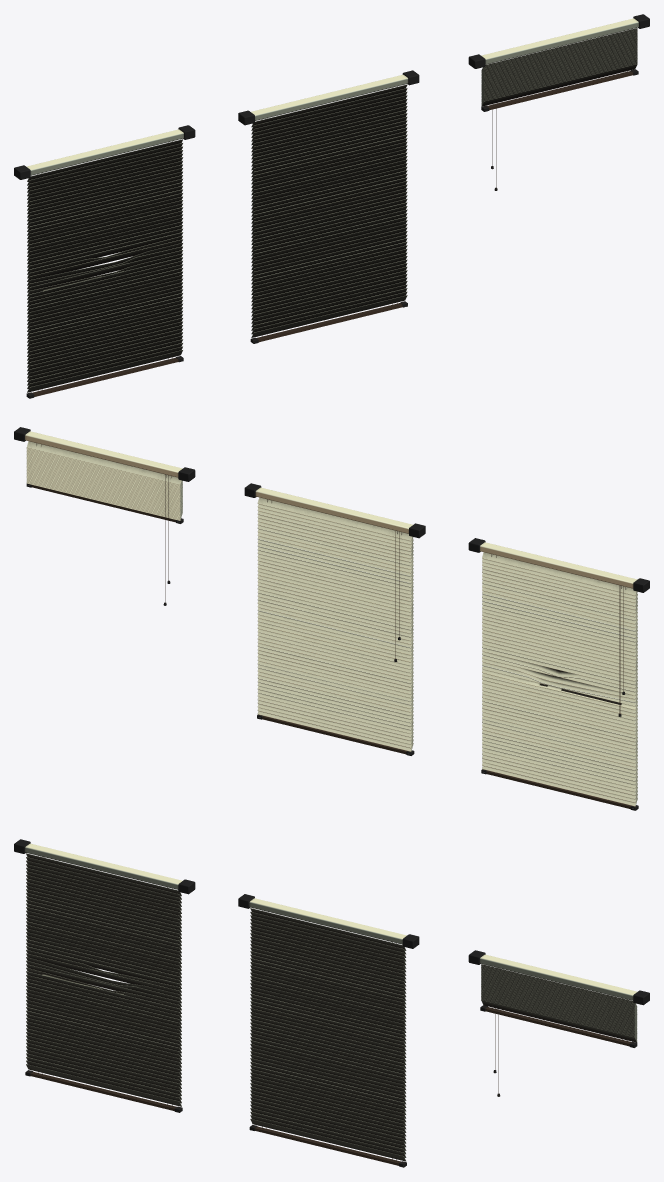
Rendered from window_blind.glb.
The picture shows the model from 3 angles, top to bottom: view 1: azimuth 30°, elevation 25°; view 2: azimuth 150°, elevation 25°; view 3: azimuth 330°, elevation 25°; orthographic projection.
Parts seen in each view (by area): view 1: 02_Mat_0, 01_Mat_0, 03_Mat_0; view 2: 02_Mat_0, 01_Mat_0, 03_Mat_0; view 3: 02_Mat_0, 01_Mat_0, 03_Mat_0.
Part boxes in pixels (x1,y1,x2,y2): 02_Mat_0: (238,70,419,343); 01_Mat_0: (14,125,195,398); 03_Mat_0: (468,14,649,190); 02_Mat_0: (244,483,425,755); 01_Mat_0: (468,538,649,810); 03_Mat_0: (14,427,195,605); 02_Mat_0: (238,894,419,1167); 01_Mat_0: (14,839,195,1112); 03_Mat_0: (468,950,649,1096).
Size of the model in its own units: 5.9 by 2.06 by 0.1072.
Materials: 1 (1 with a texture image).
